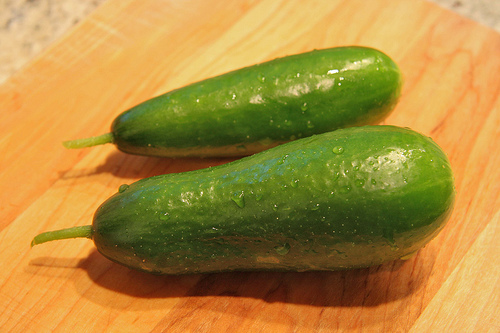cucumber: (90, 123, 453, 275), (113, 47, 401, 158)
